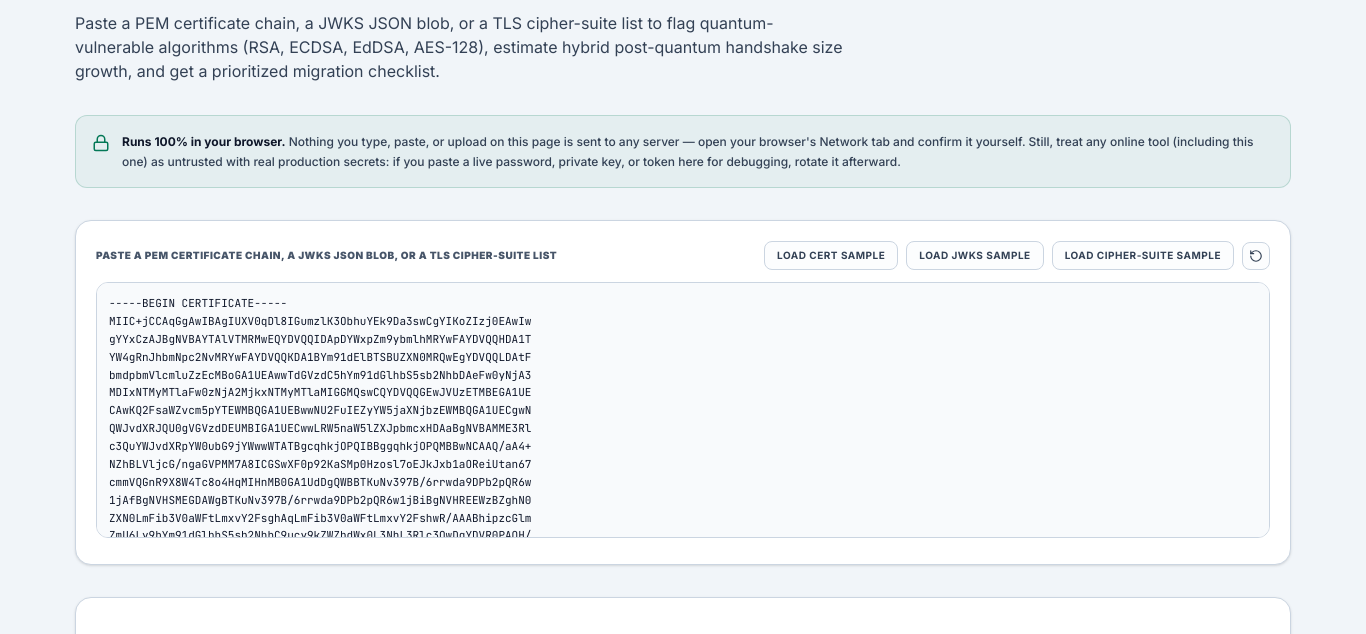
Scenario: PqcReadinessAuditor page › loading the JWKS sample flags the classical RSA/EC keys but not the PQC key
The width and height of the screenshot is (1366, 634).
Click the button "Load JWKS Sample" at (975, 256), box [906,241,1044,270]
(page scrolled)
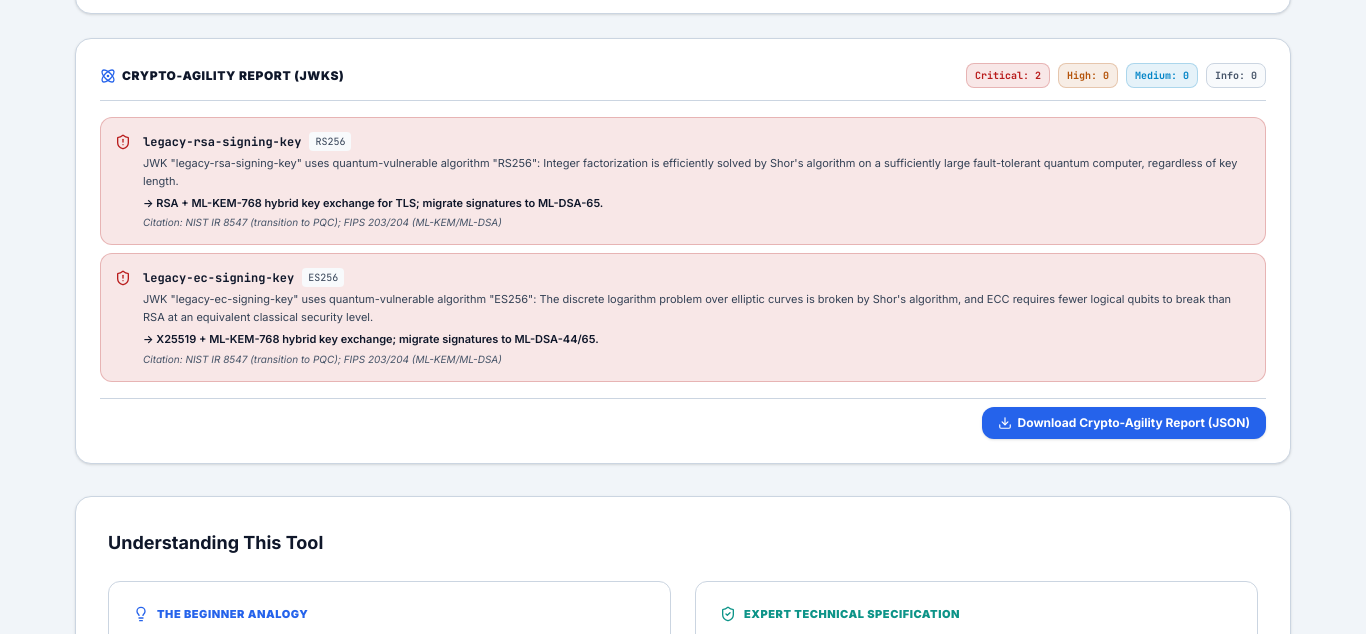
Now the text "legacy-rsa-signing-key" is shown, box [143,134,301,150]
Now the text "legacy-ec-signing-key" is shown, box [143,270,294,286]
